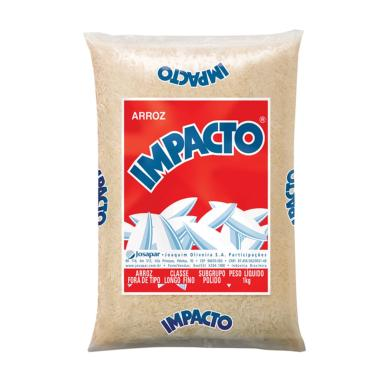rice package: (86, 31, 304, 350)
